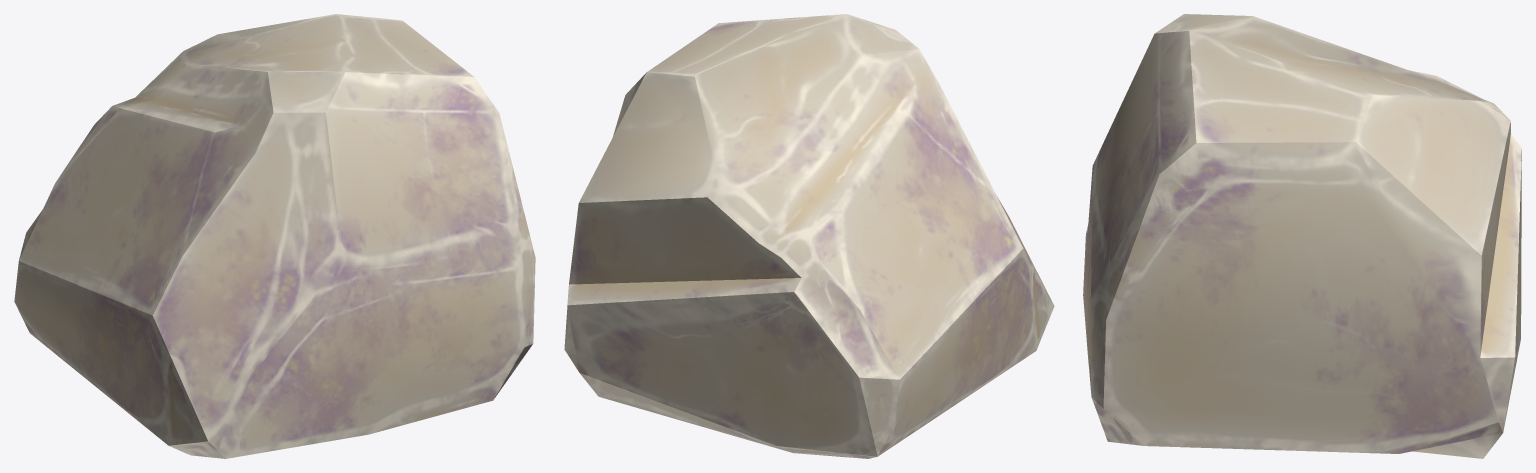
The model's file is rock_large.glb.
3 renders of one model, left to right at view 1: azimuth 30°, elevation 25°; view 2: azimuth 150°, elevation 25°; view 3: azimuth 270°, elevation 25°, orthographic. The views are drawn at different scales.
Parts seen in each view (by area): view 1: r9_low_fh_rocks_0; view 2: r9_low_fh_rocks_0; view 3: r9_low_fh_rocks_0.
Part boxes in pixels (x1,y1,x2,y2): r9_low_fh_rocks_0: [14, 14, 535, 458]; r9_low_fh_rocks_0: [564, 14, 1054, 458]; r9_low_fh_rocks_0: [1083, 14, 1521, 458].
Size of the model in its own units: 32.72 by 30.34 by 32.94.
1 material, 1 textured.
